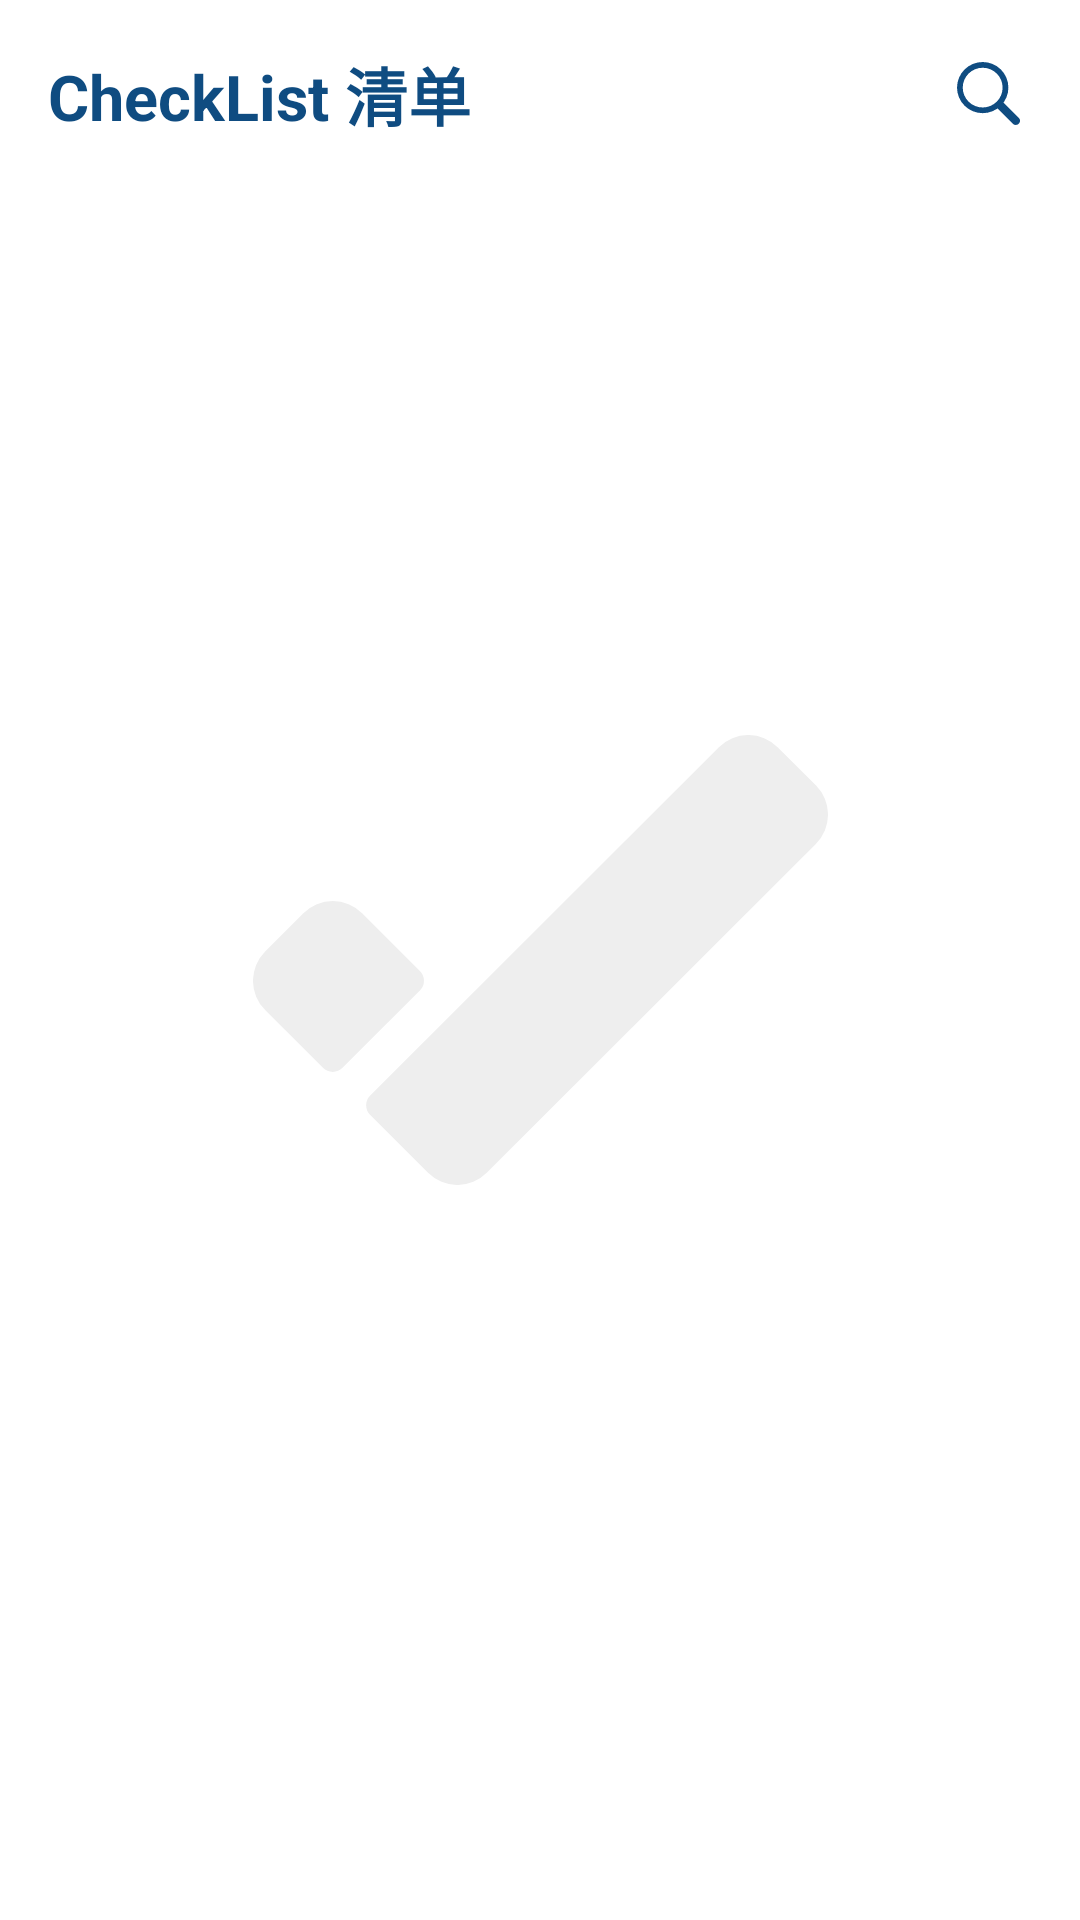

Screen size 1080 × 1920. Icon name, then its center in pixels as (x,y):
search: (988,93)
